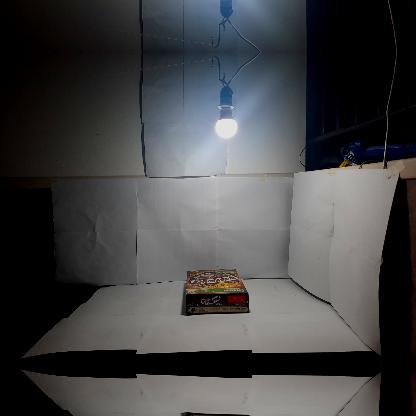Koko-Krunch: (185, 268, 249, 314)
